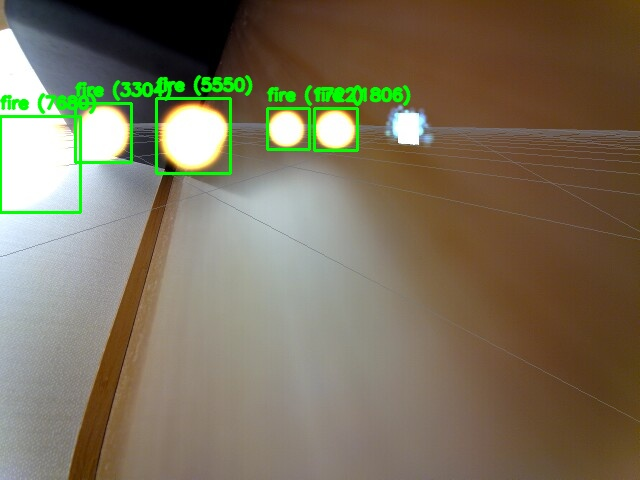fire: (0, 116, 80, 212), (156, 98, 230, 173), (75, 103, 131, 162), (314, 108, 357, 150), (267, 108, 309, 149)
